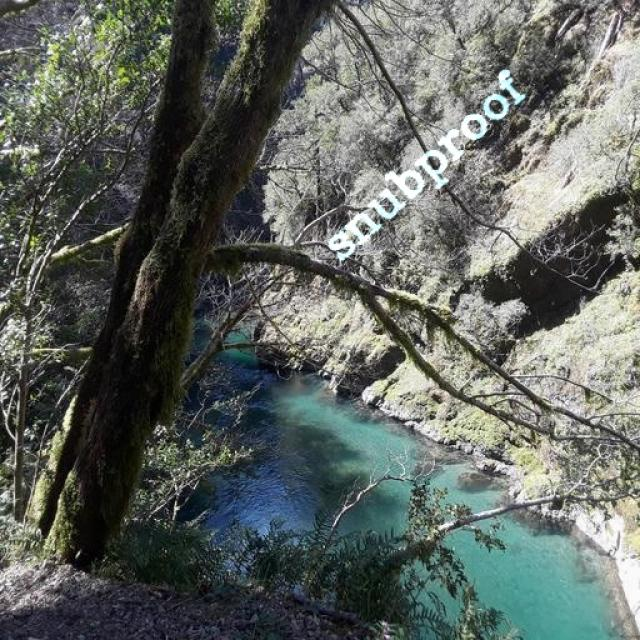watermark: (328, 56, 528, 270)
